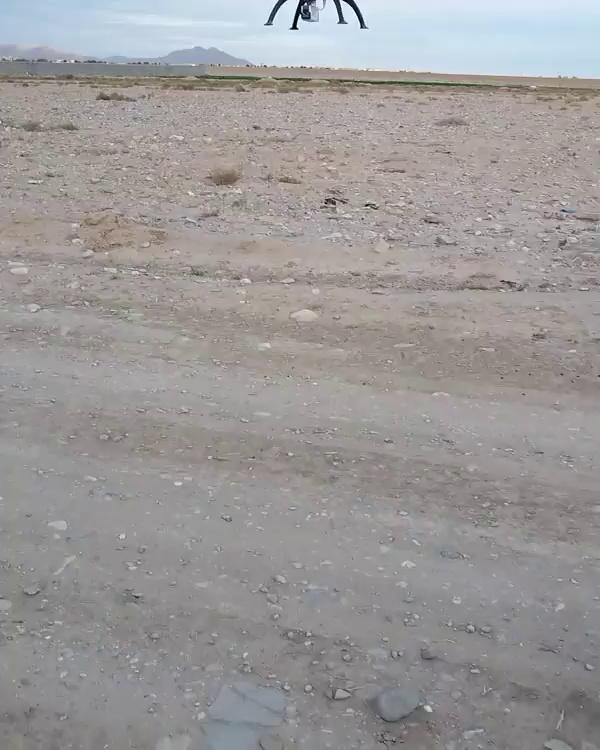drone: (256, 0, 375, 31)
